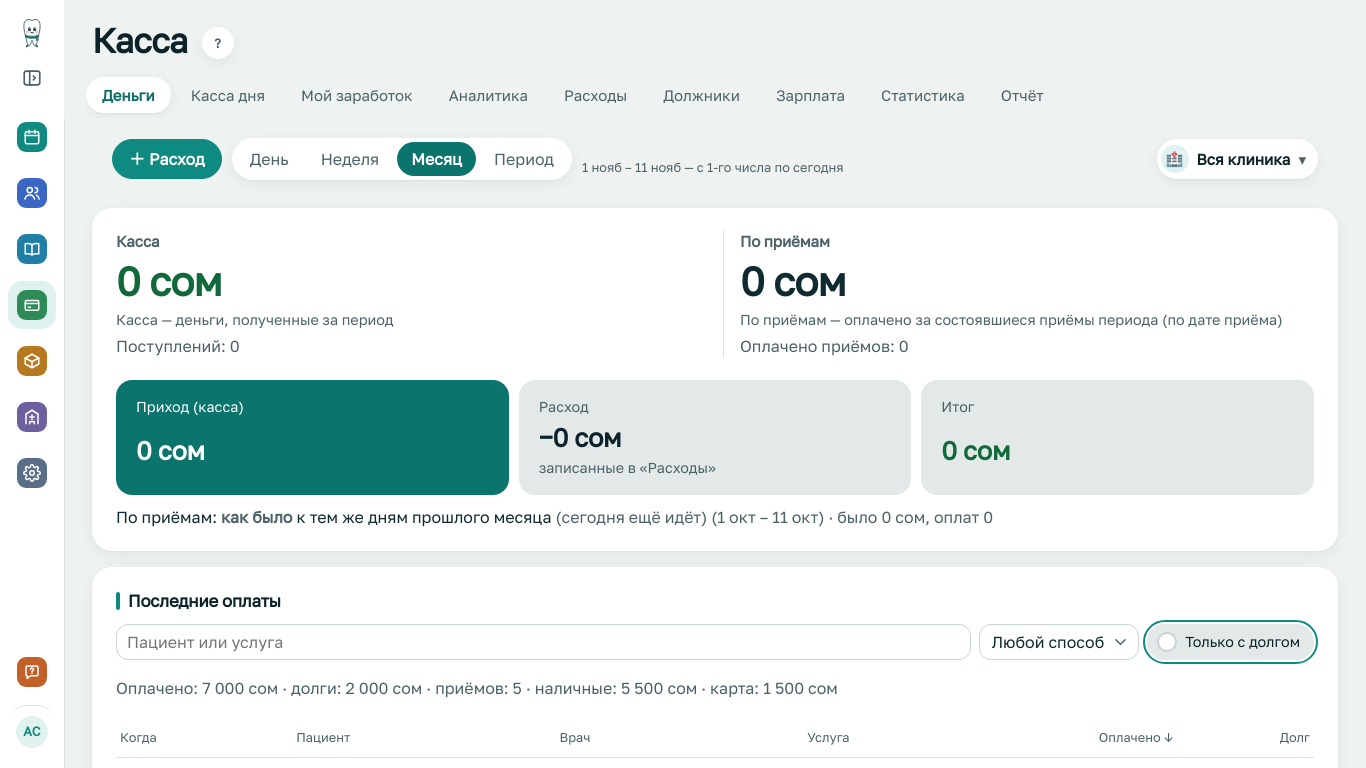
Test: касса: последние оплаты — новые сверху; сортировка по сумме; фильтр «только с долгом»
The image size is (1366, 768).
Earlier steps of the test are not shown.
Click the dropdown named "Способ оплаты" at point(1059, 642), box [979, 624, 1139, 660]
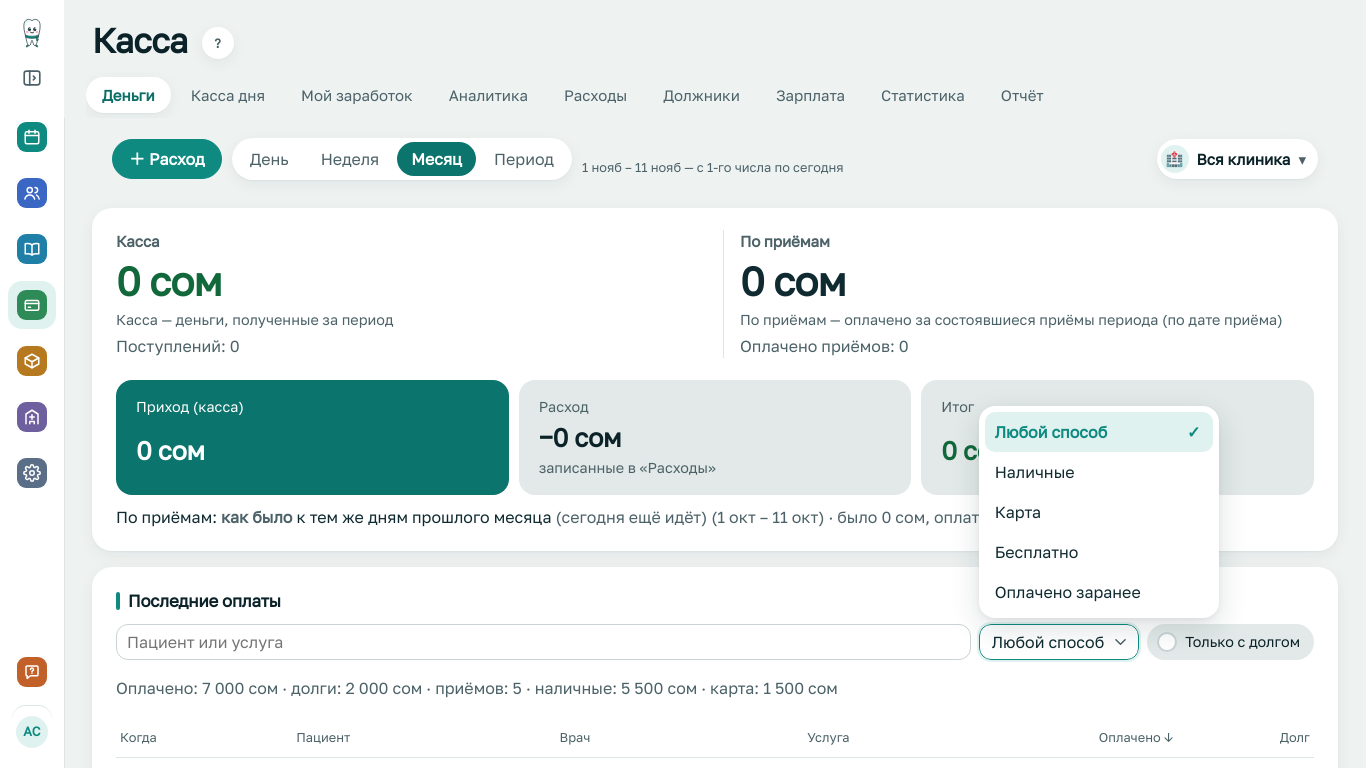
Click the option "Карта" at point(1018, 512), box [995, 502, 1041, 522]
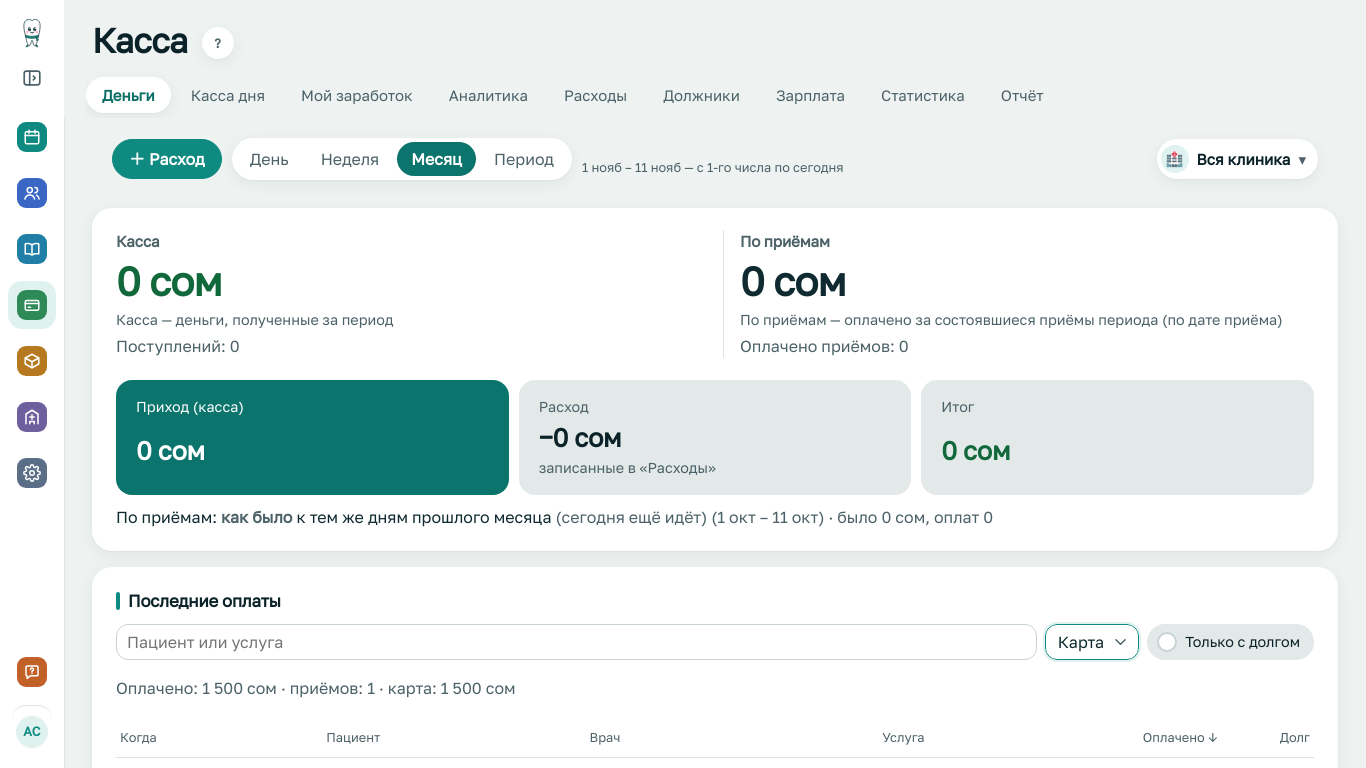
Click the dropdown named "Способ оплаты" at point(1092, 642), box [1045, 624, 1139, 660]
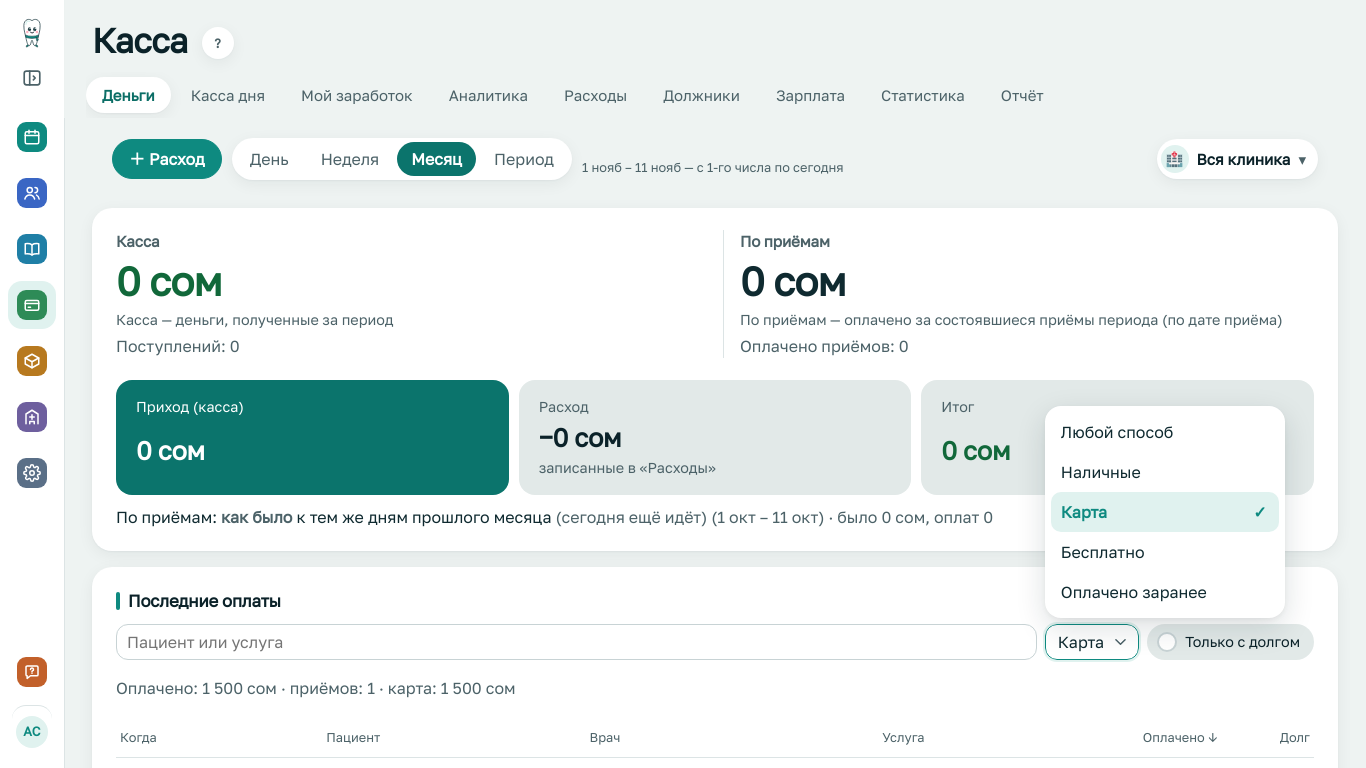
Click the option "Оплачено заранее" at point(1134, 592), box [1061, 582, 1207, 602]
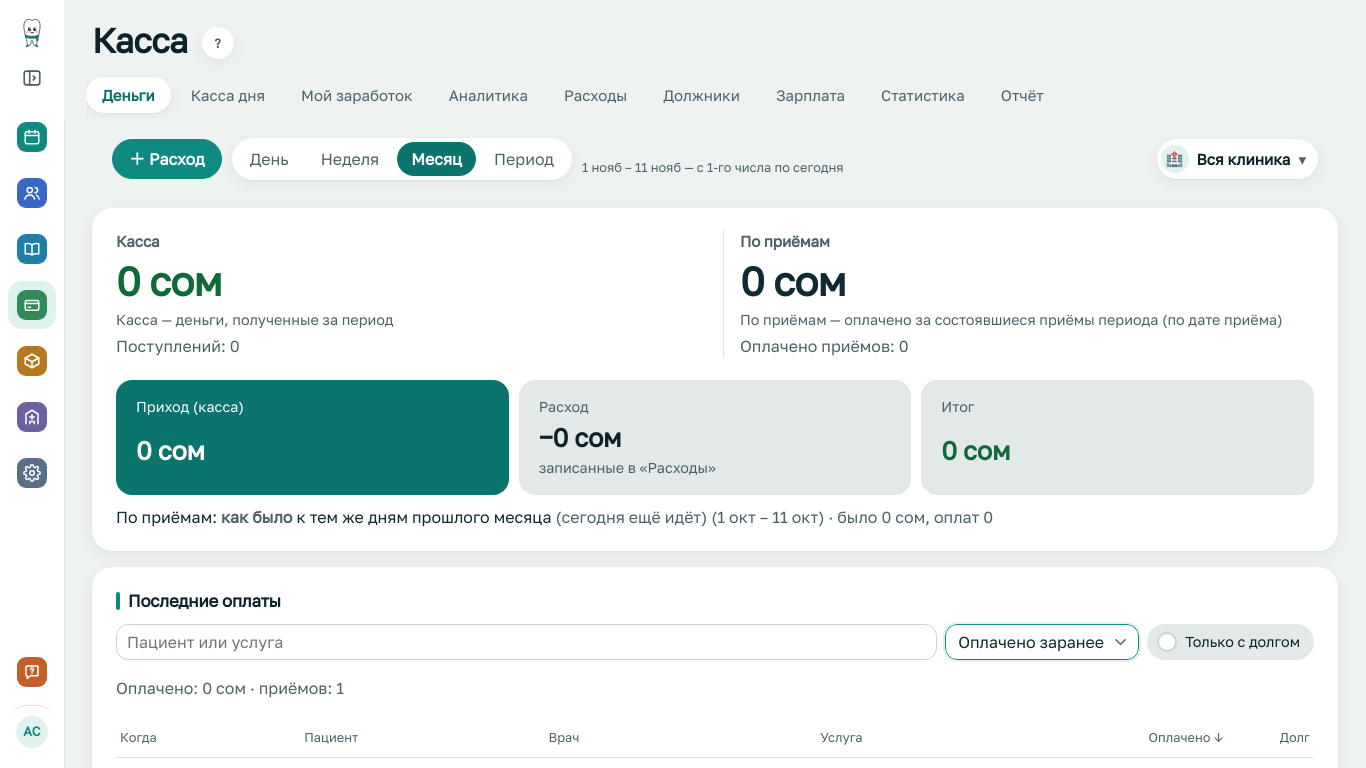
Click the dropdown named "Способ оплаты" at point(1042, 642), box [945, 624, 1139, 660]
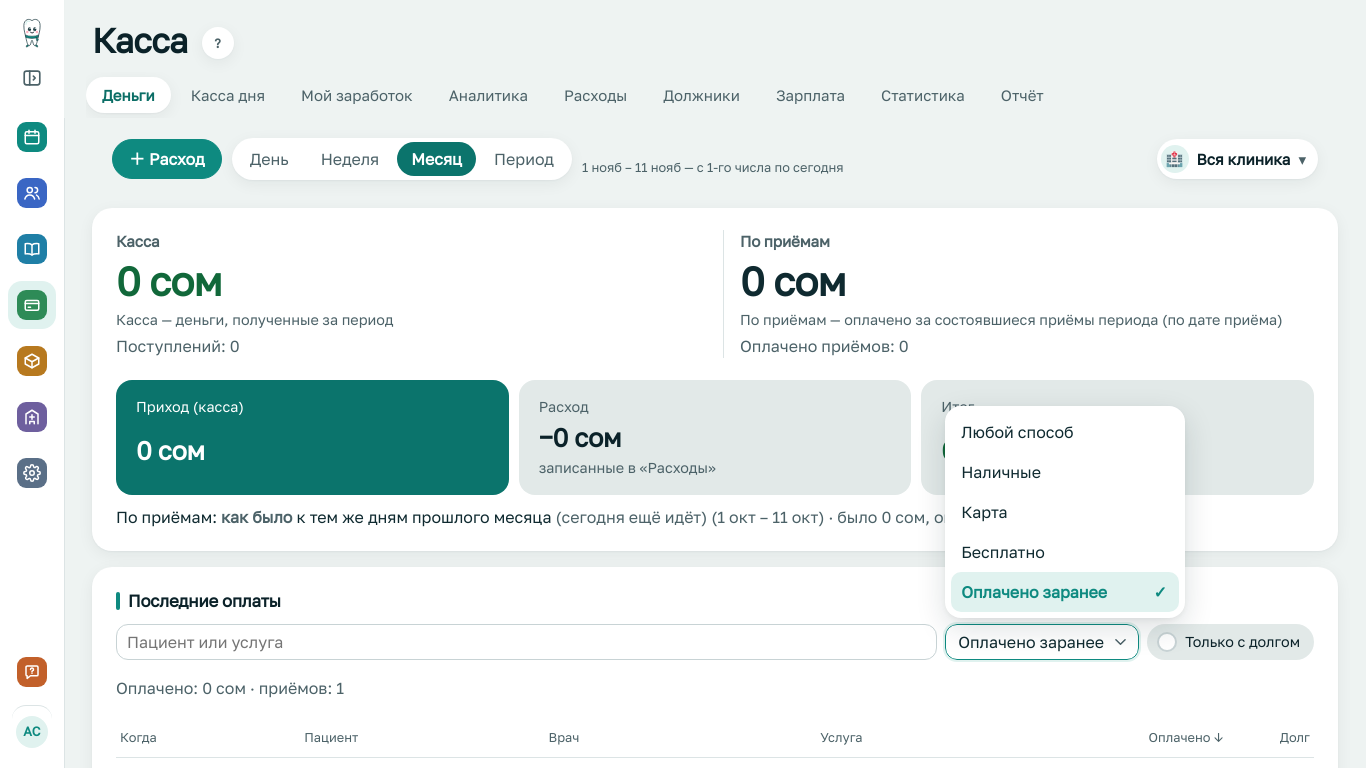
Click the option "Бесплатно" at point(1003, 552), box [961, 542, 1045, 562]
(page scrolled)
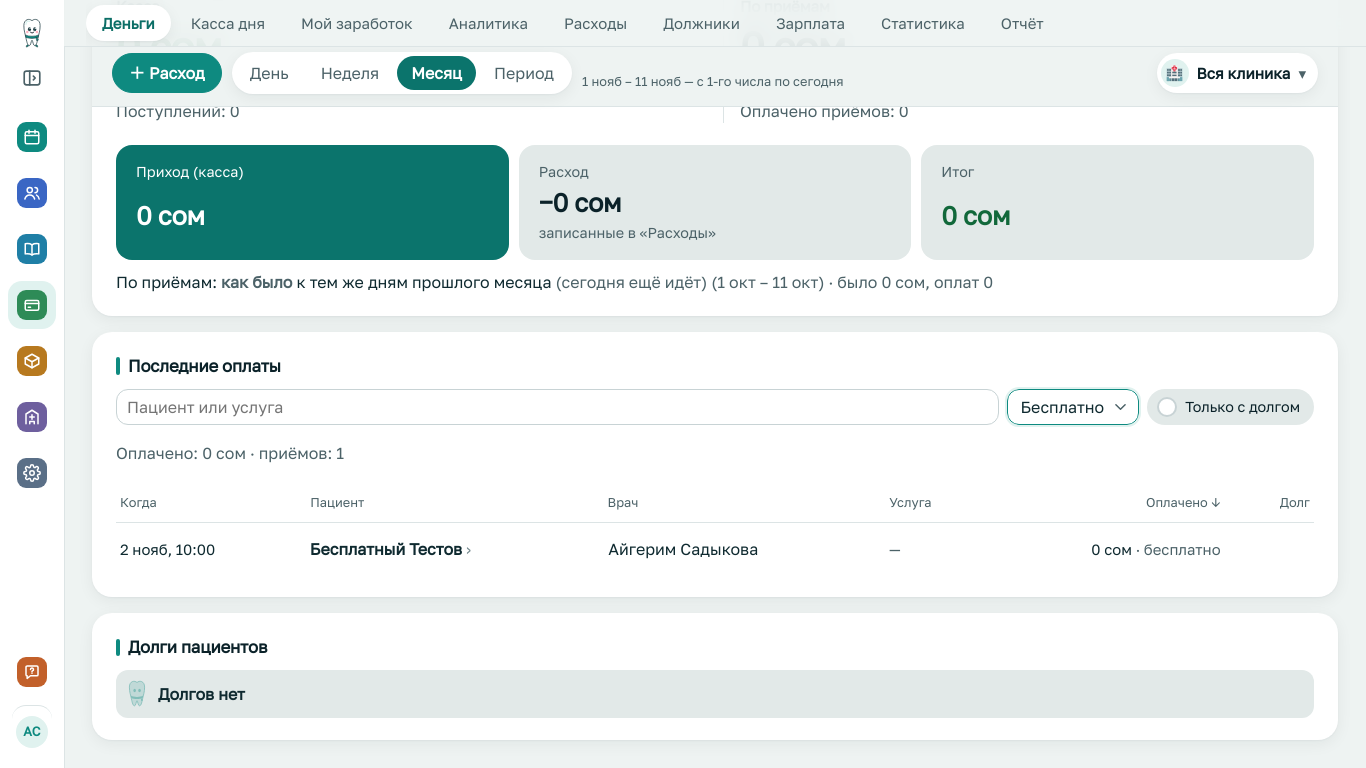
Check: the table named "Последние оплаты" shows "· бесплатно", box [116, 481, 1314, 575]
